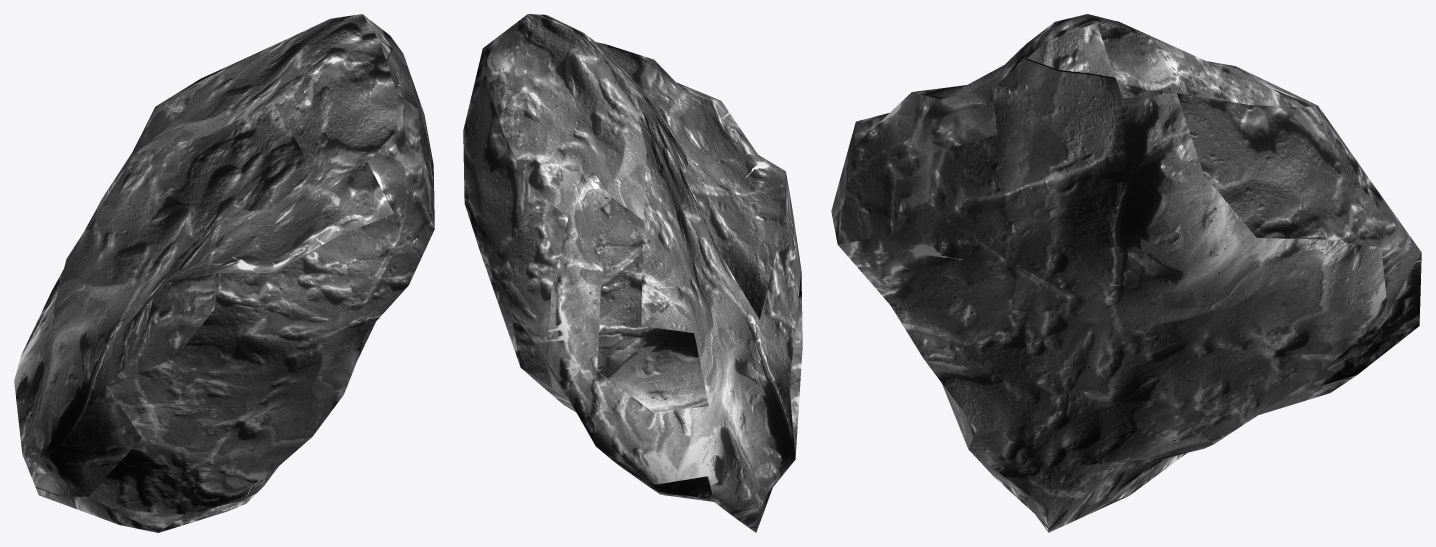
Rendered from meteorito_1.FBX.
The picture shows the model from 3 angles, left to right: view 1: azimuth 30°, elevation 25°; view 2: azimuth 150°, elevation 25°; view 3: azimuth 270°, elevation 25°; orthographic projection. The views are drawn at different scales.
Parts seen in each view (by area): view 1: meteorito_1; view 2: meteorito_1; view 3: meteorito_1.
Part boxes in pixels (bbox=[...]): meteorito_1: bbox=[14, 14, 434, 532]; meteorito_1: bbox=[463, 14, 802, 532]; meteorito_1: bbox=[831, 14, 1421, 532].
Bounding box in the file's own units: 73.63 × 94.33 × 80.81.
